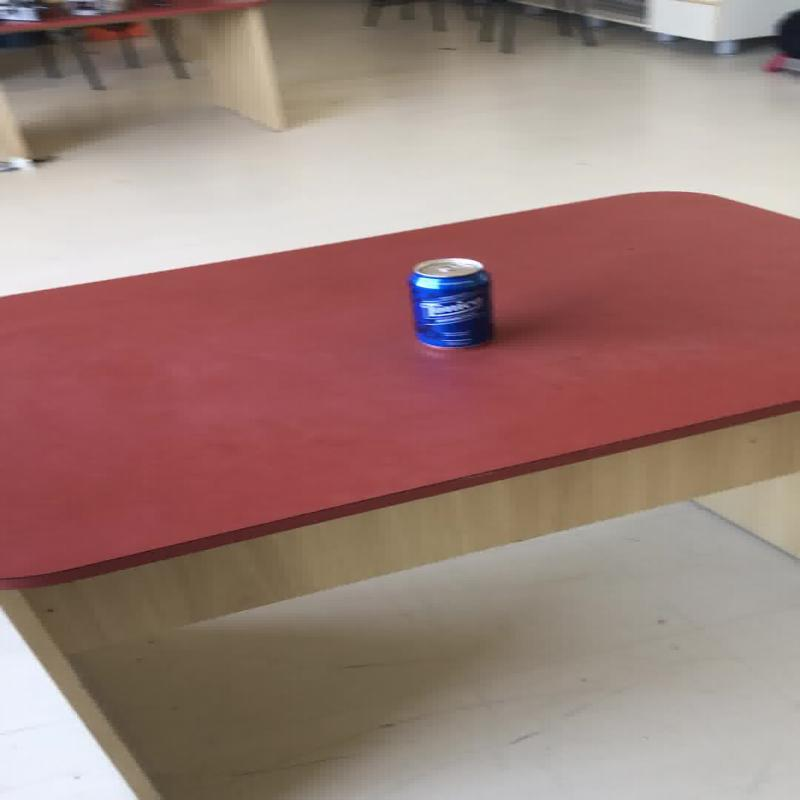tonic: (406, 256, 492, 349)
